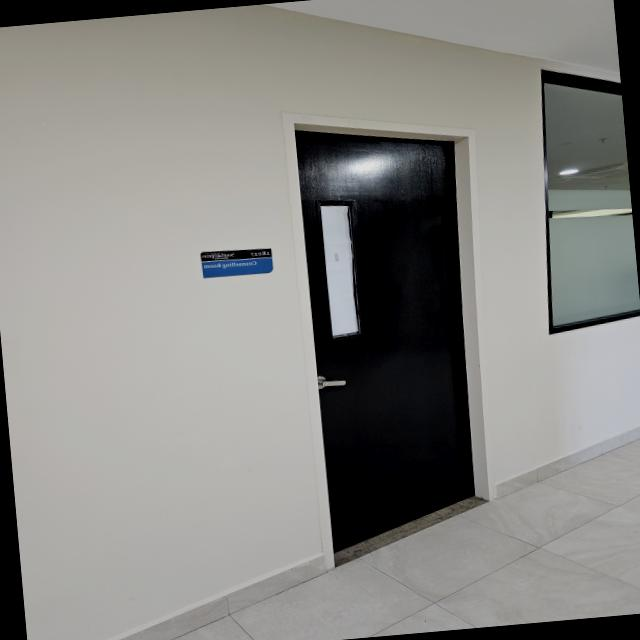door: (267, 88, 516, 582)
